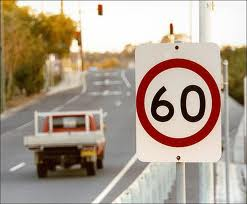Speed_limit_60km: (134, 58, 222, 146)
